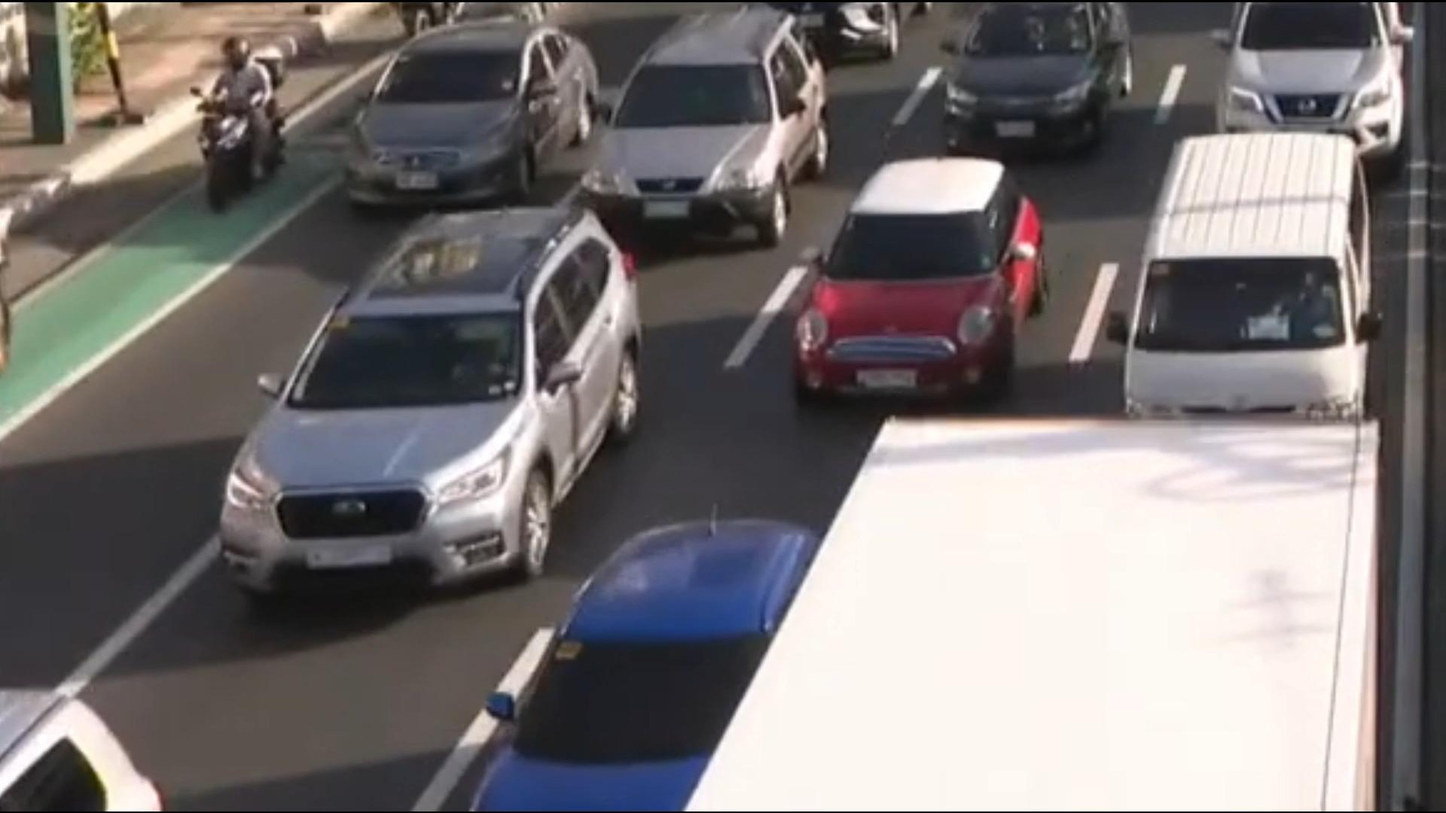Motorcycle: (183, 24, 292, 222)
SUV: (226, 205, 648, 606), (586, 13, 821, 248), (1203, 6, 1412, 171), (0, 683, 175, 813)
Sedan: (461, 508, 845, 813), (793, 154, 1047, 405), (335, 24, 601, 213), (932, 0, 1139, 154)
Truck: (676, 412, 1391, 813)
Van: (1130, 128, 1369, 422)
